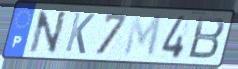4: (160, 14, 188, 61)
7: (94, 12, 130, 57)
B: (186, 16, 227, 62)
K: (63, 11, 97, 56)
M: (122, 13, 164, 59)
N: (27, 10, 69, 55)
